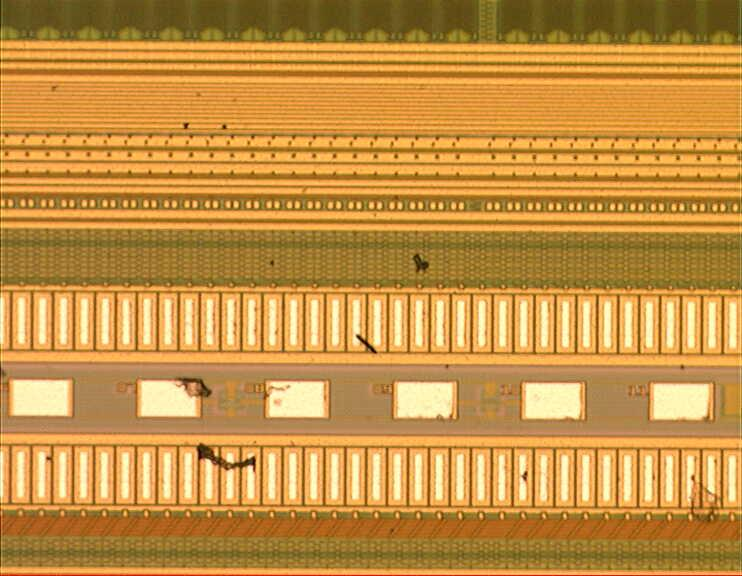PO CONTAMINATION: (1, 75, 725, 525)
